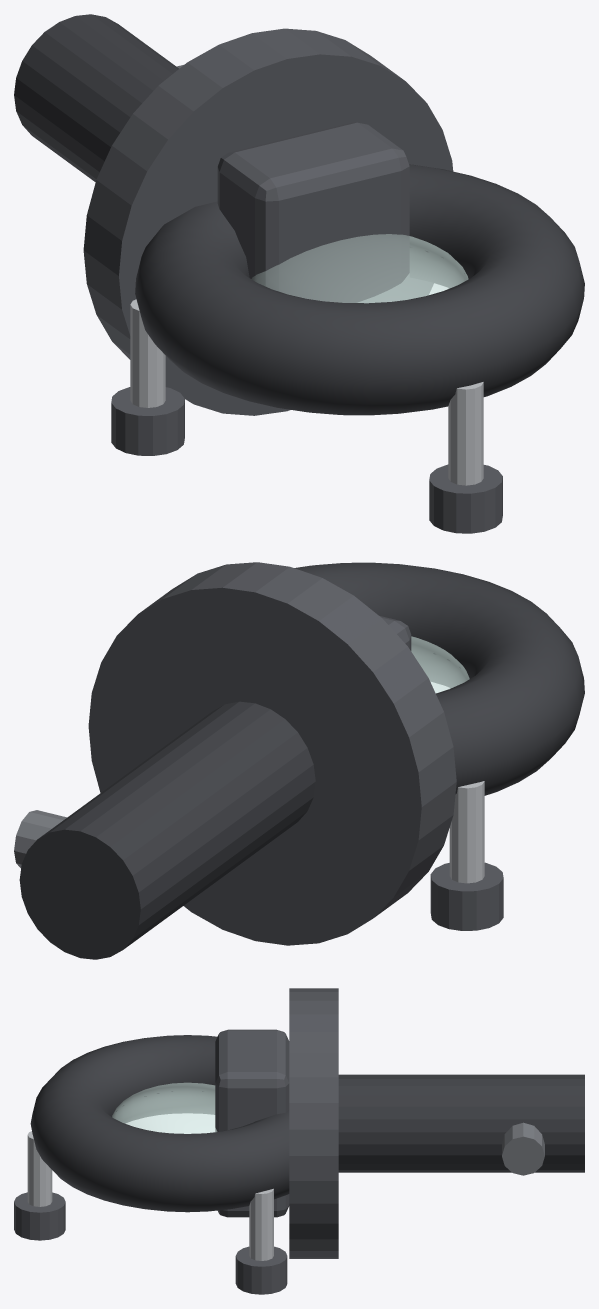
The picture shows the model from 3 angles, top to bottom: view 1: azimuth 30°, elevation 25°; view 2: azimuth 150°, elevation 25°; view 3: azimuth 270°, elevation 25°; orthographic projection. The views are drawn at different scales.
Visible parts, largest first — view 1: L1_ring, L1_plate, L1_crown, L1_sleeve, L1_lens, L1_knob, L1_knob.001, L1_adj, L1_adj.001; view 2: L1_plate, L1_sleeve, L1_ring, L1_knob.001, L1_adj.001, L1_lens, L1_lockknob; view 3: L1_ring, L1_sleeve, L1_plate, L1_crown, L1_lens, L1_knob.002, L1_knob, L1_lockknob, L1_adj.002, L1_adj.
Boxes of the visible parts, box(x1,y1,x2,y2) form: L1_ring: box(135, 164, 584, 415); L1_plate: box(83, 28, 453, 415); L1_crown: box(217, 122, 409, 302); L1_sleeve: box(14, 14, 178, 181); L1_lens: box(252, 234, 468, 303); L1_knob: box(429, 464, 502, 533); L1_knob.001: box(111, 387, 184, 455); L1_adj: box(448, 382, 483, 485); L1_adj.001: box(130, 299, 165, 407); L1_plate: box(88, 562, 456, 945); L1_sleeve: box(19, 701, 315, 959); L1_ring: box(294, 562, 584, 795); L1_knob.001: box(430, 862, 503, 930); L1_adj.001: box(449, 781, 484, 883); L1_lens: box(411, 636, 469, 693); L1_lockknob: box(14, 810, 66, 867); L1_ring: box(30, 1035, 289, 1212); L1_sleeve: box(338, 1074, 584, 1172); L1_plate: box(289, 988, 338, 1258); L1_crown: box(215, 1029, 289, 1217); L1_lens: box(112, 1082, 217, 1133); L1_knob.002: box(235, 1246, 287, 1294); L1_knob: box(14, 1192, 65, 1240); L1_lockknob: box(502, 1122, 544, 1175); L1_adj.002: box(249, 1188, 273, 1260); L1_adj: box(27, 1131, 52, 1206).
Bounding box in the file's own units: 0.051 × 0.044 × 0.0927.
